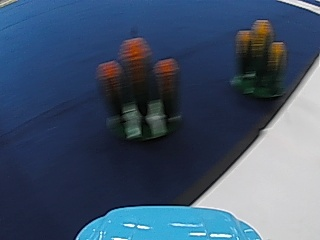corn: (97, 35, 175, 142), (233, 16, 288, 104)
